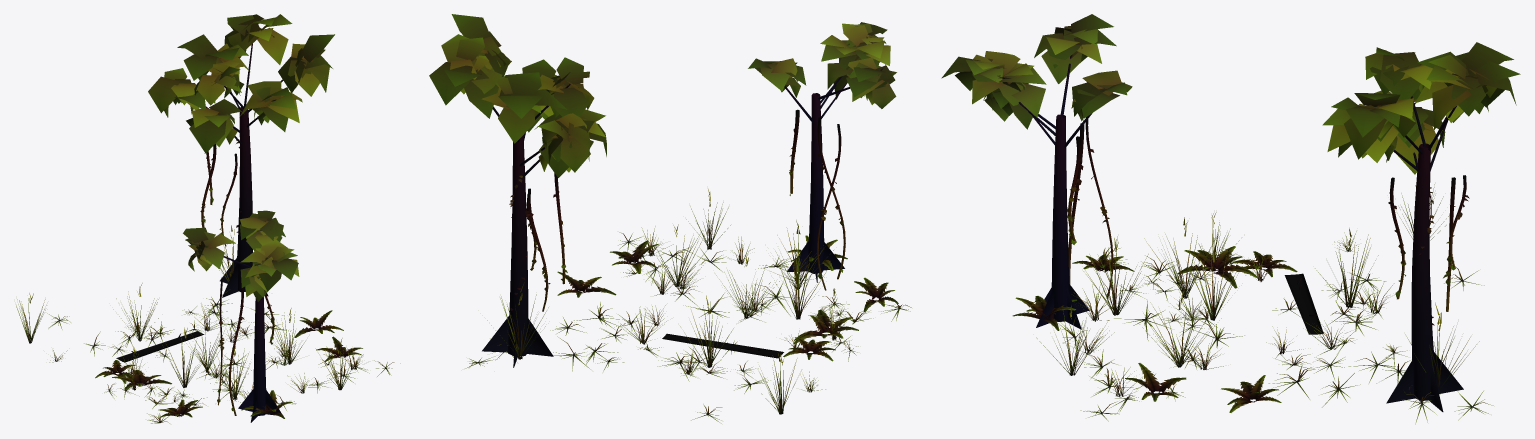
Rendered from patch_clearing.glb.
The picture shows the model from 3 angles, left to right: view 1: azimuth 30°, elevation 25°; view 2: azimuth 150°, elevation 25°; view 3: azimuth 270°, elevation 25°; orthographic projection. The views are drawn at different scales.
Visible parts, largest first — view 1: patch_clearing; view 2: patch_clearing; view 3: patch_clearing.
Part boxes in pixels (x1,y1,x2,y2): patch_clearing: (16,14,400,423); patch_clearing: (429,14,911,423); patch_clearing: (941,14,1520,424).
Bounding box in the file's own units: 16.42 × 13.94 × 19.73.
1 material, 1 textured.
